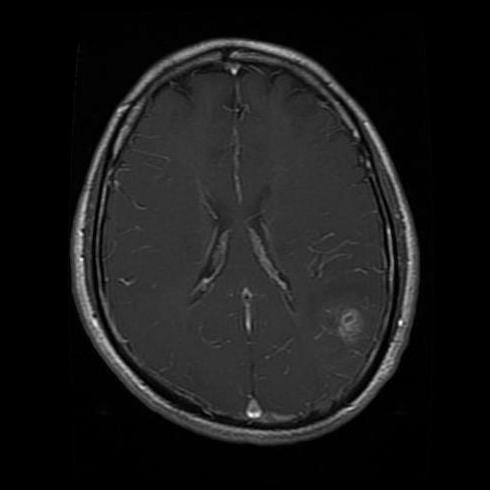Tumour-Glioma: (322, 291, 366, 365)
